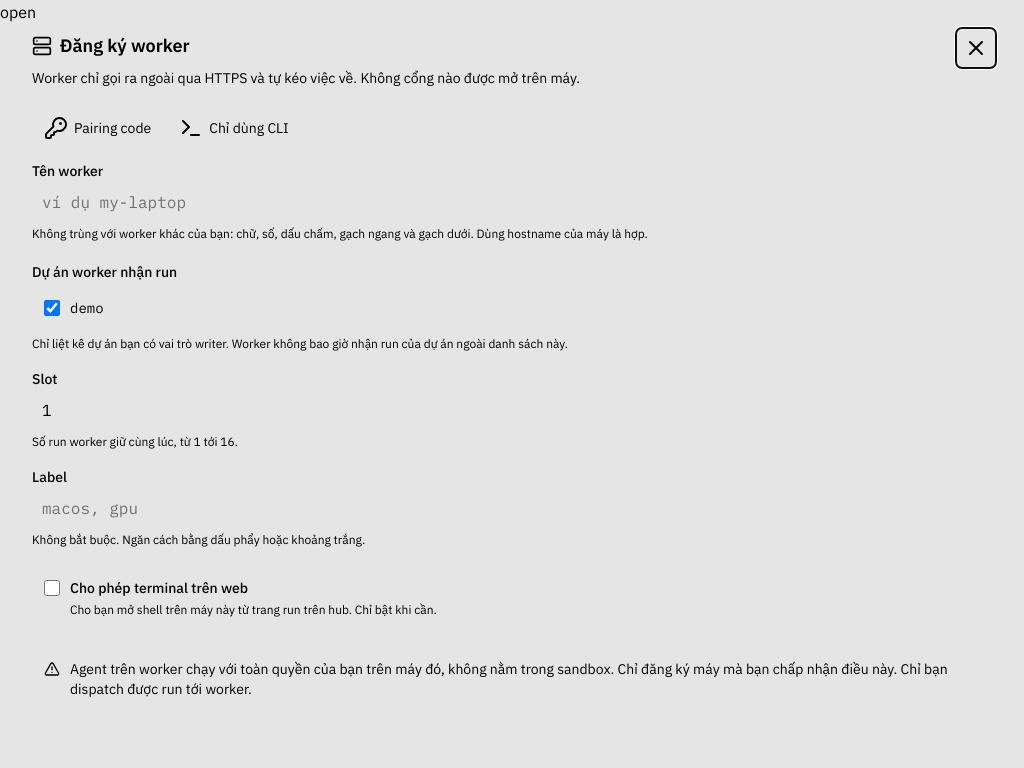
Test: RegisterDialog › shows the CLI commands built from the form, and says when the hub cannot make codes
Expected: the element with test id "register-projects" is shown, [44,299,104,317]
Expected: the checkbox labelled "demo" is checked, [44,300,60,316]
Type "mac-mini" into the field labelled "Tên worker". click: (512,202)
box: [32,184,992,220]
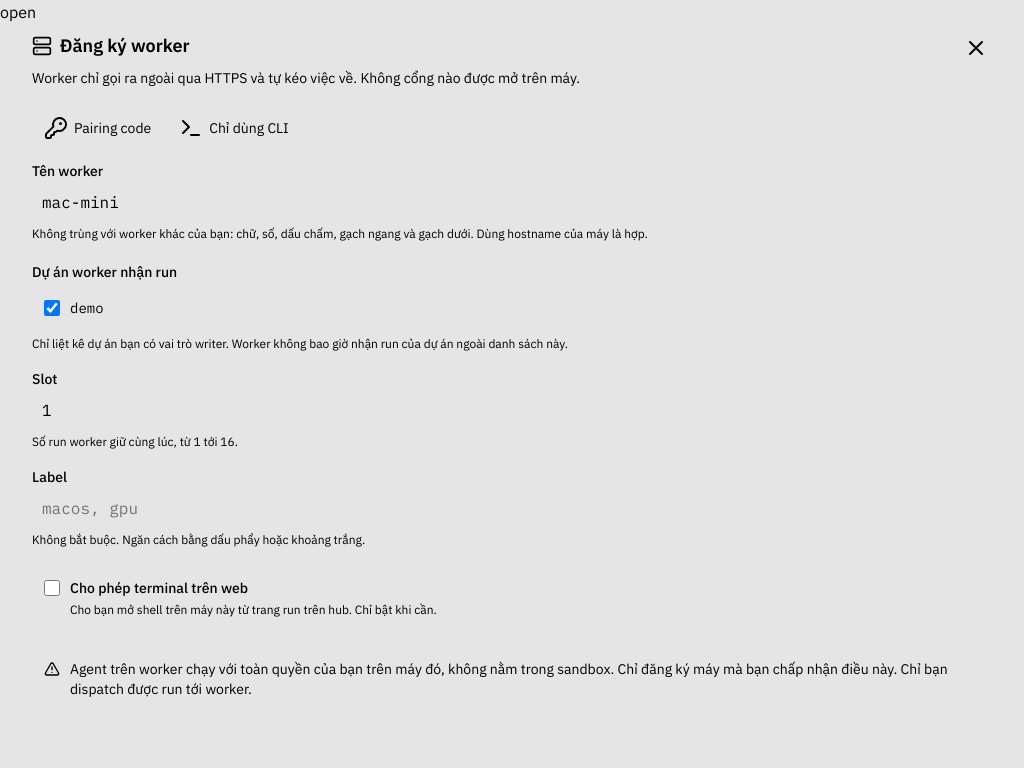
Click the tab "Chỉ dùng CLI". click: (234,128)
box: [167,108,301,148]
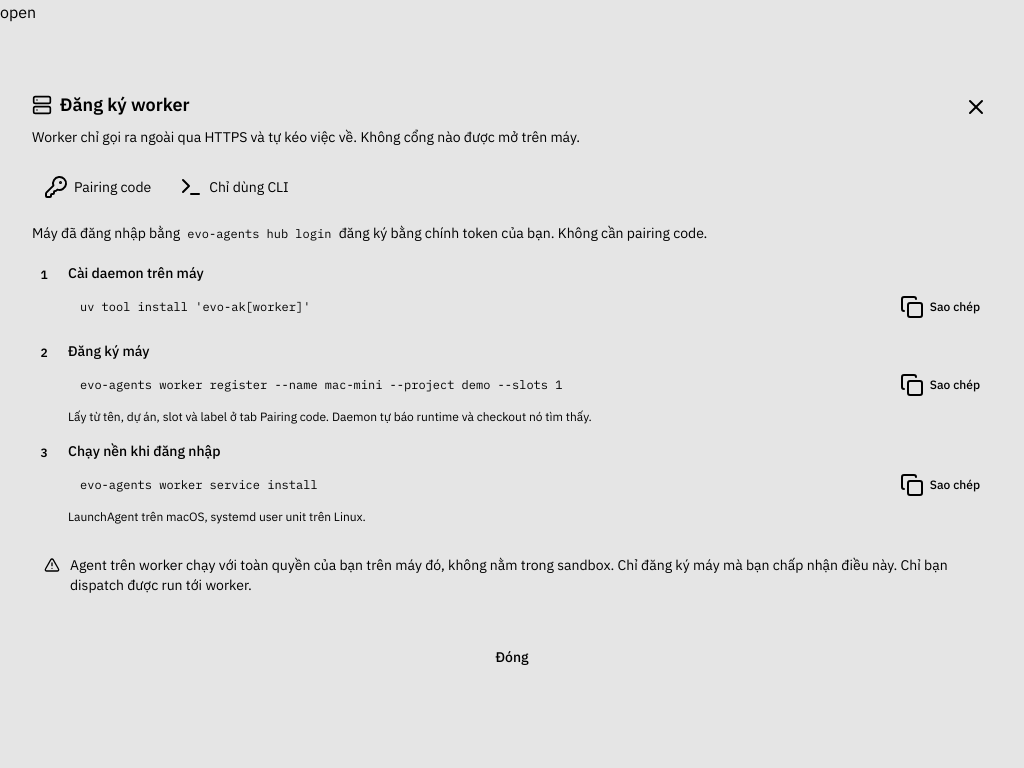
Result: the element with test id "register-cli-command" shows "evo-agents worker register --name mac-mini --project demo --slots 1" at [80,377,562,392]
Click the tab "Pairing code". click: (98,187)
box: [32,167,163,207]
(page scrolled)
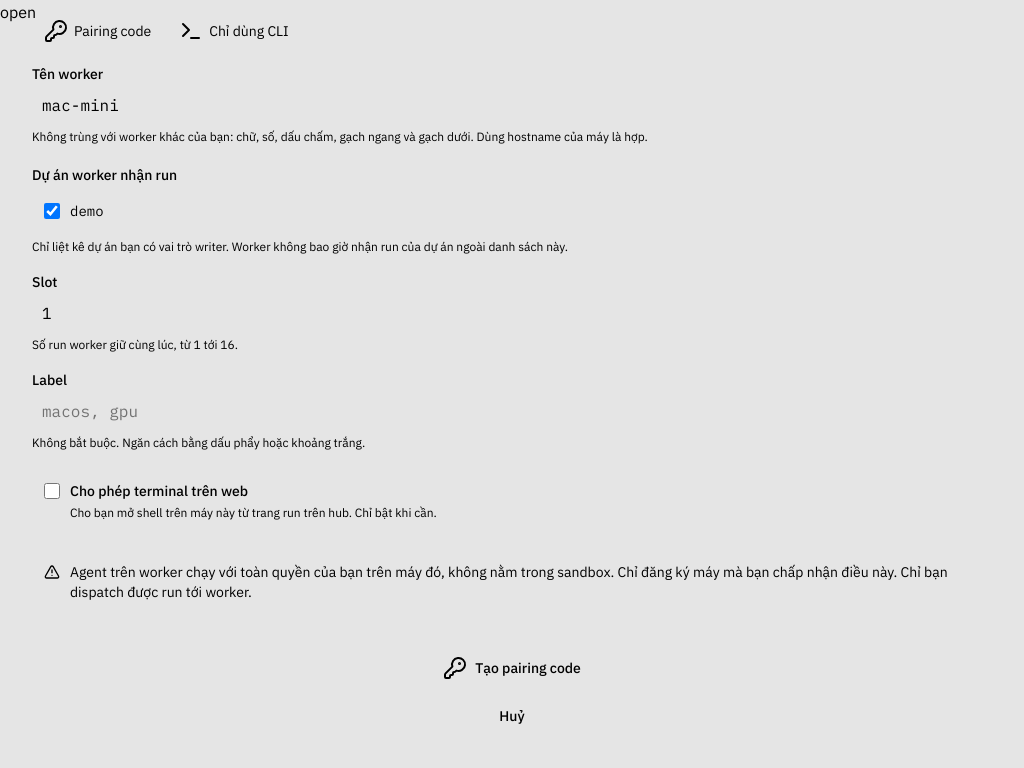
Click the button "Tạo pairing code". click: (512,668)
box: [32,648,992,688]
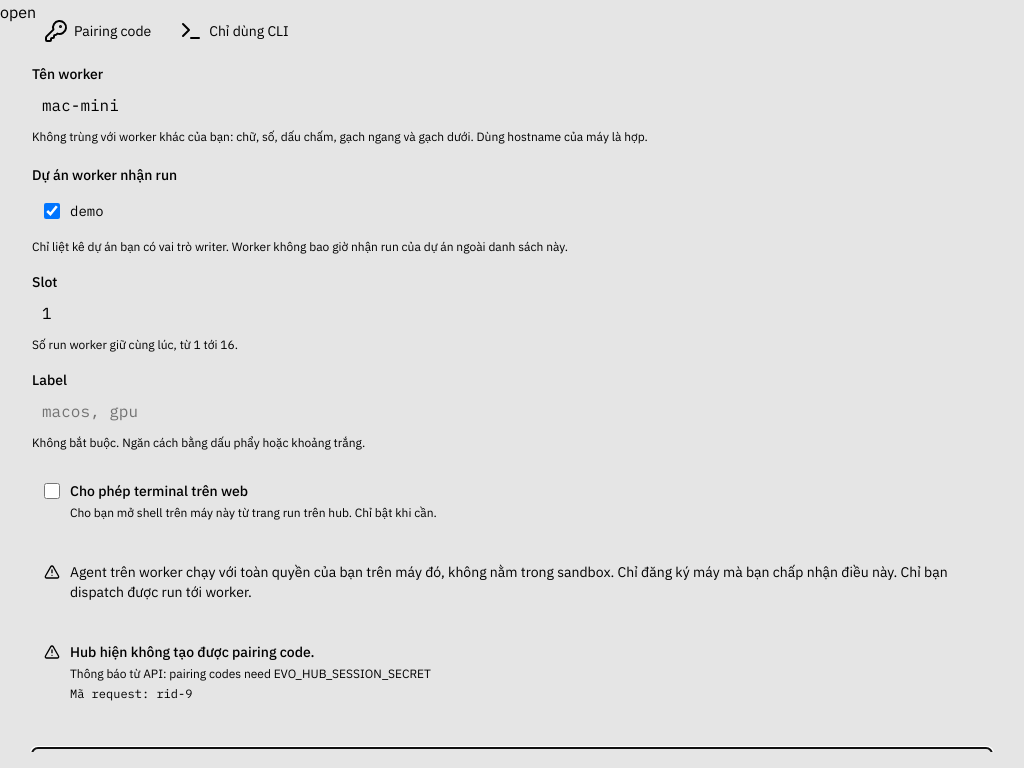
Expected: the text with test id "open-state" reads "open", [0,2,36,22]
Result: the message with test id "admin-dialog-error" shows "Hub hiện không tạo được pairing code." at [70,642,314,660]
Result: the message with test id "admin-dialog-error" shows "EVO_HUB_SESSION_SECRET" at [70,666,431,680]
